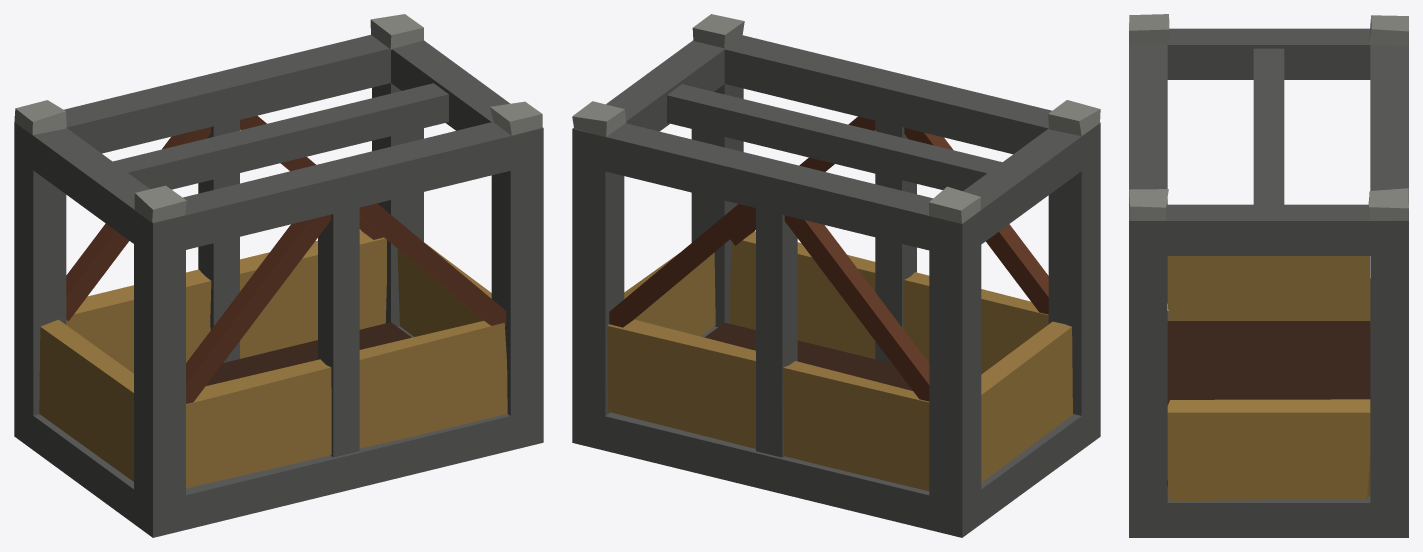
File: cargo_heavy_frame.glb
The picture shows the model from 3 angles, left to right: view 1: azimuth 30°, elevation 25°; view 2: azimuth 150°, elevation 25°; view 3: azimuth 270°, elevation 25°; orthographic projection.
Parts seen in each view (by area): view 1: cargo_heavy_frame; view 2: cargo_heavy_frame; view 3: cargo_heavy_frame.
Boxes of the visible parts, x1,y1,x2,y2 form: cargo_heavy_frame: [14, 14, 543, 537]; cargo_heavy_frame: [572, 14, 1100, 537]; cargo_heavy_frame: [1129, 14, 1408, 537].
Bounding box in the file's own units: 1.3 × 1.05 × 0.8.
